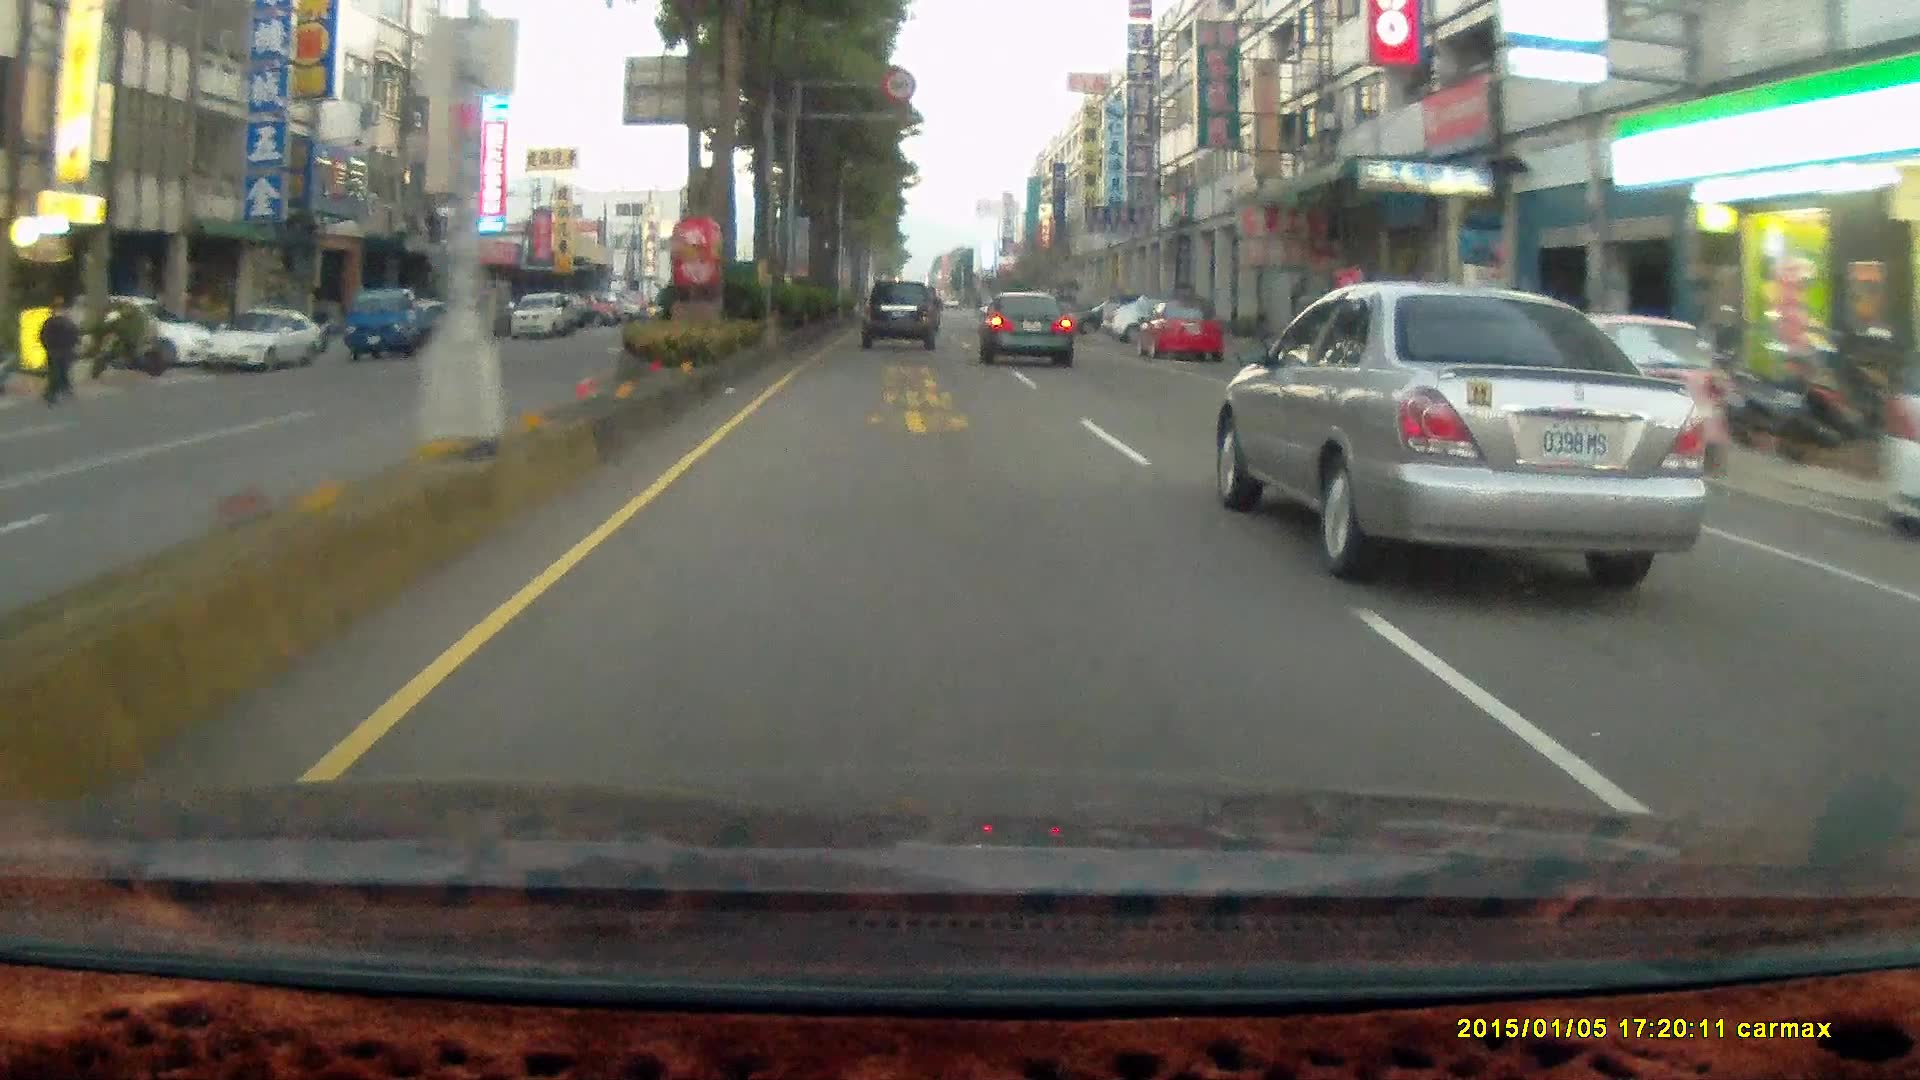pedestrian: (40, 302, 76, 405), (40, 301, 74, 402)
vehicle: (1227, 286, 1721, 576), (1511, 313, 1722, 467), (1523, 317, 1735, 468), (1325, 301, 1508, 395), (65, 295, 208, 369), (200, 311, 325, 380), (1877, 345, 1920, 537), (347, 289, 455, 362), (981, 300, 1078, 379), (976, 290, 1073, 366), (200, 315, 321, 377), (343, 287, 438, 361), (861, 281, 941, 355), (1136, 303, 1224, 365), (860, 280, 938, 350), (1140, 306, 1227, 367), (1100, 293, 1206, 342), (379, 297, 468, 347), (509, 292, 569, 340)
